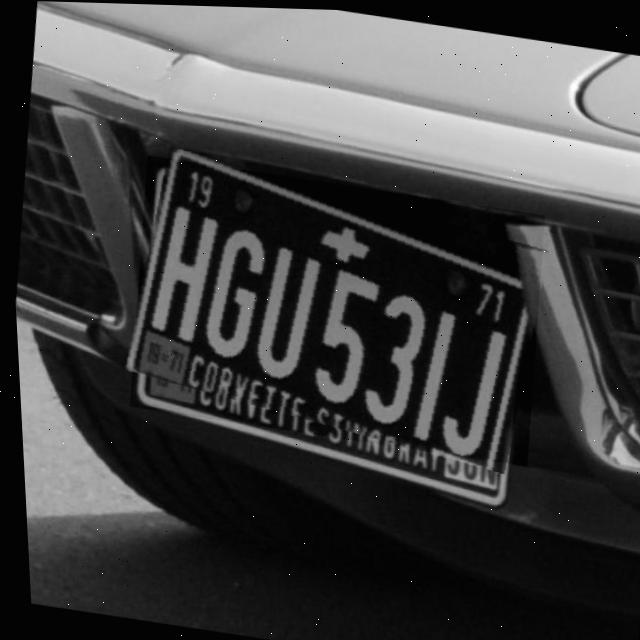LicensePlate: (115, 153, 553, 464)
